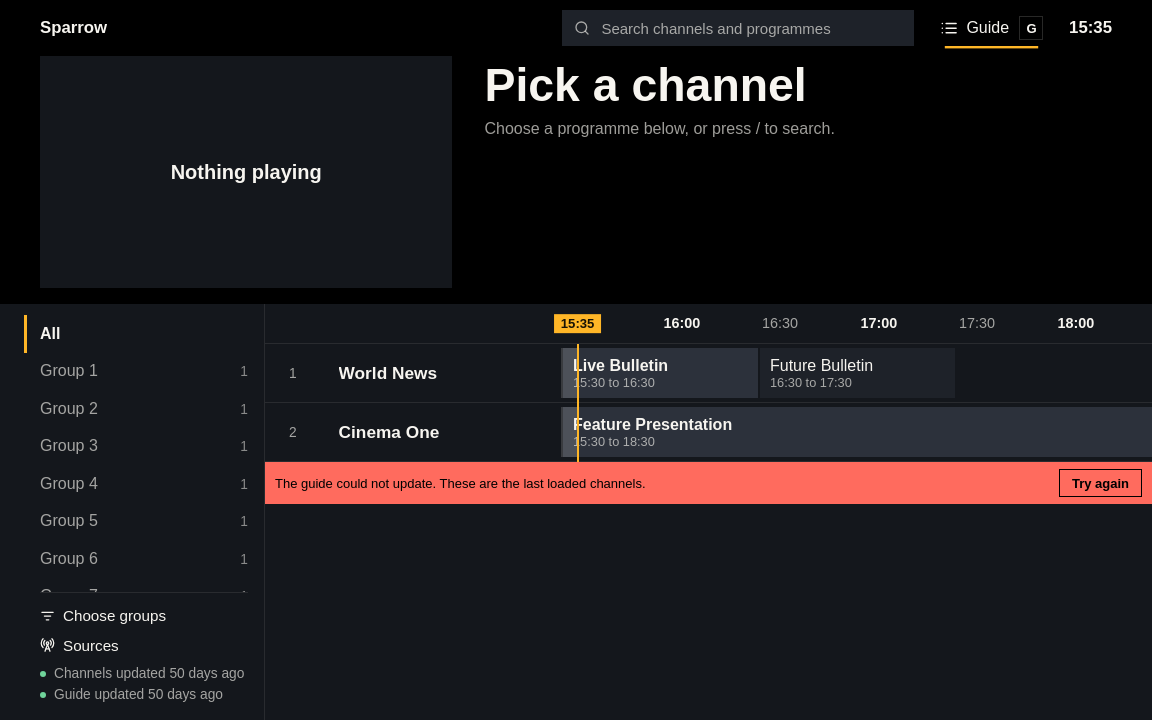
CatalogBrowser shell › surfaces a failed group continuation and resumes pagination on retry
Expected: the text "The guide could not update. These are the last loaded channels." is shown, [275, 476, 646, 491]
Click the button "Try again". click: (1100, 483)
box: [1059, 469, 1142, 497]
(page scrolled)
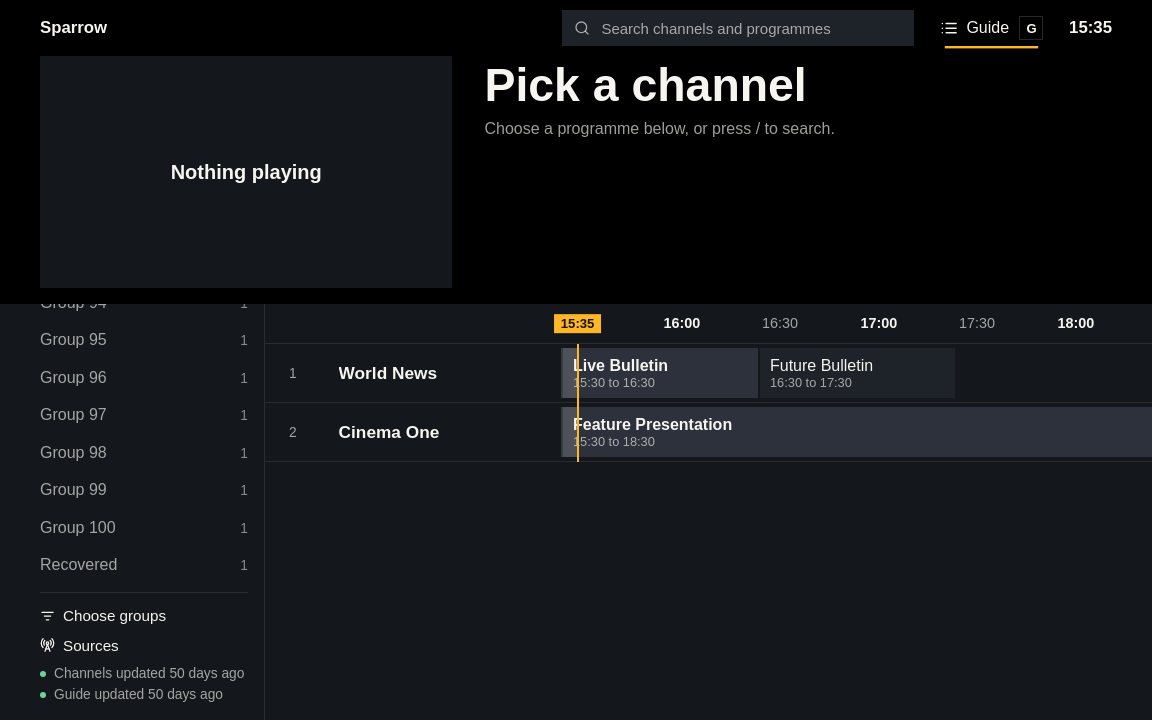
Expected: the radio button labelled "Recovered 1" is shown, [40, 556, 248, 573]
Expected: the text "The guide could not update. These are the last loaded channels." is gone
